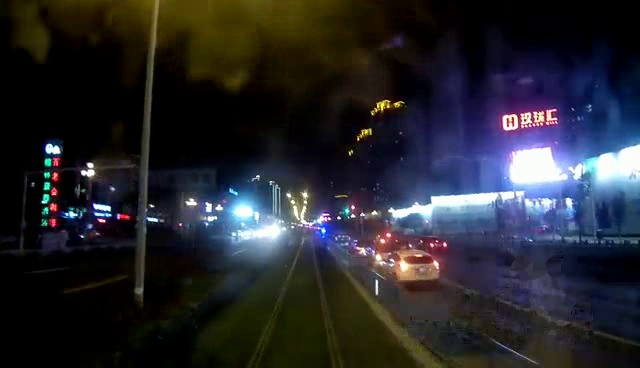car: (373, 249, 440, 283), (421, 233, 450, 251), (373, 230, 398, 245)
